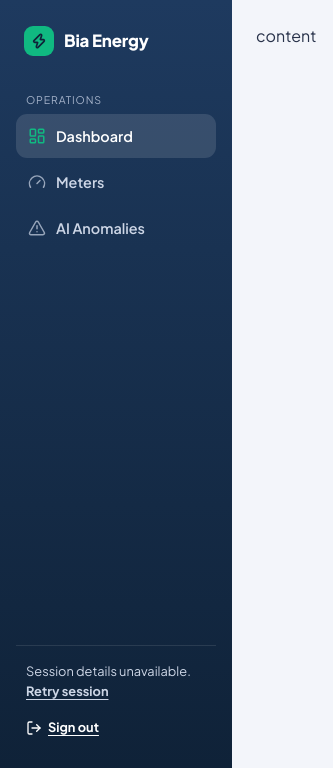
logout › offers session recovery after the API was unavailable
Check: the text "Session details unavailable. Retry session" is shown, box [26,662,206,702]
Click the button "Retry session": (67, 692) [26,682,108,702]
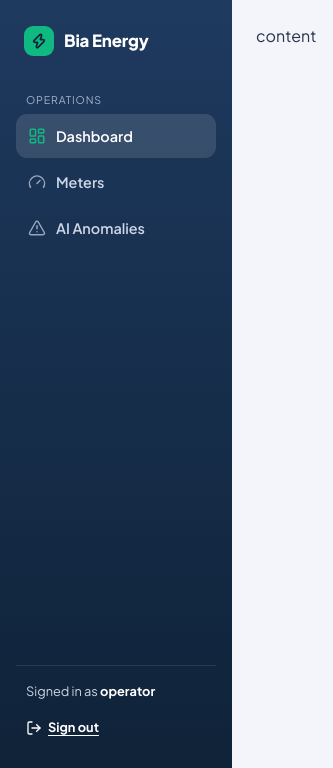
Check: the text "operator" is shown, box [100,683,155,699]
